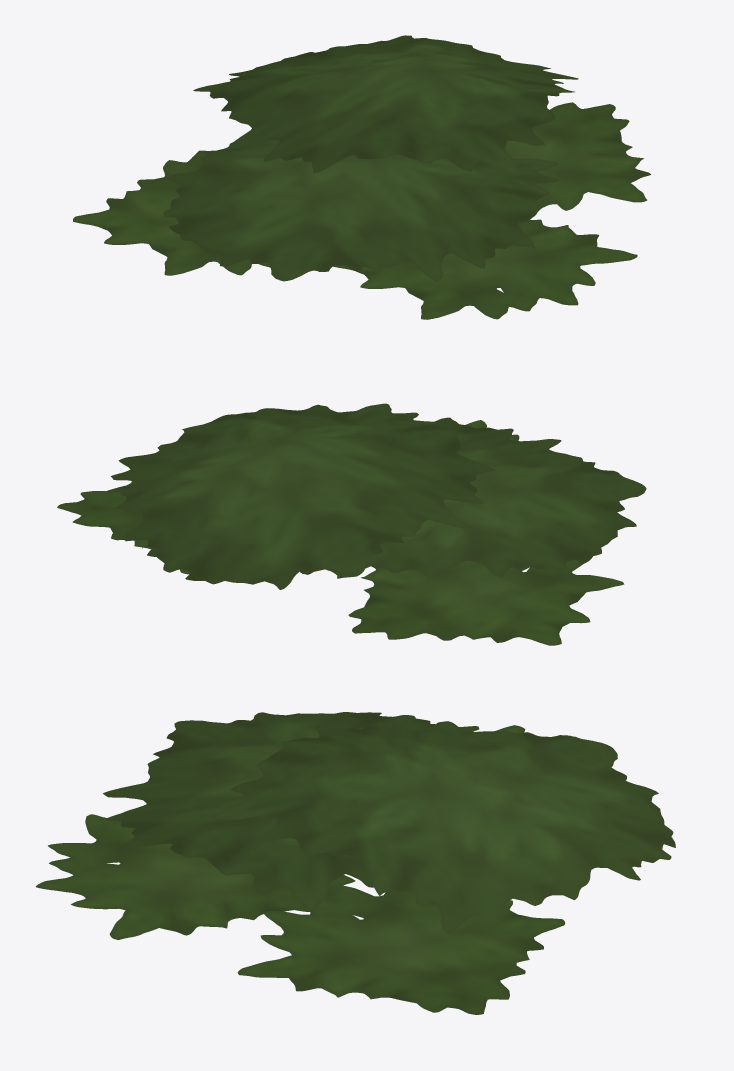
The model's file is Bush_02.fbx.
The picture shows the model from 3 angles, top to bottom: view 1: azimuth 30°, elevation 25°; view 2: azimuth 150°, elevation 25°; view 3: azimuth 270°, elevation 25°; orthographic projection. The views are drawn at different scales.
Visible parts, largest first — view 1: Bush_02; view 2: Bush_02; view 3: Bush_02.
Part boxes in pixels (<box>): Bush_02: <box>73,35,650,319</box>; Bush_02: <box>57,403,646,645</box>; Bush_02: <box>35,712,675,1014</box>.
Size of the model in its own units: 210 by 34.09 by 185.
1 material, 1 textured.
